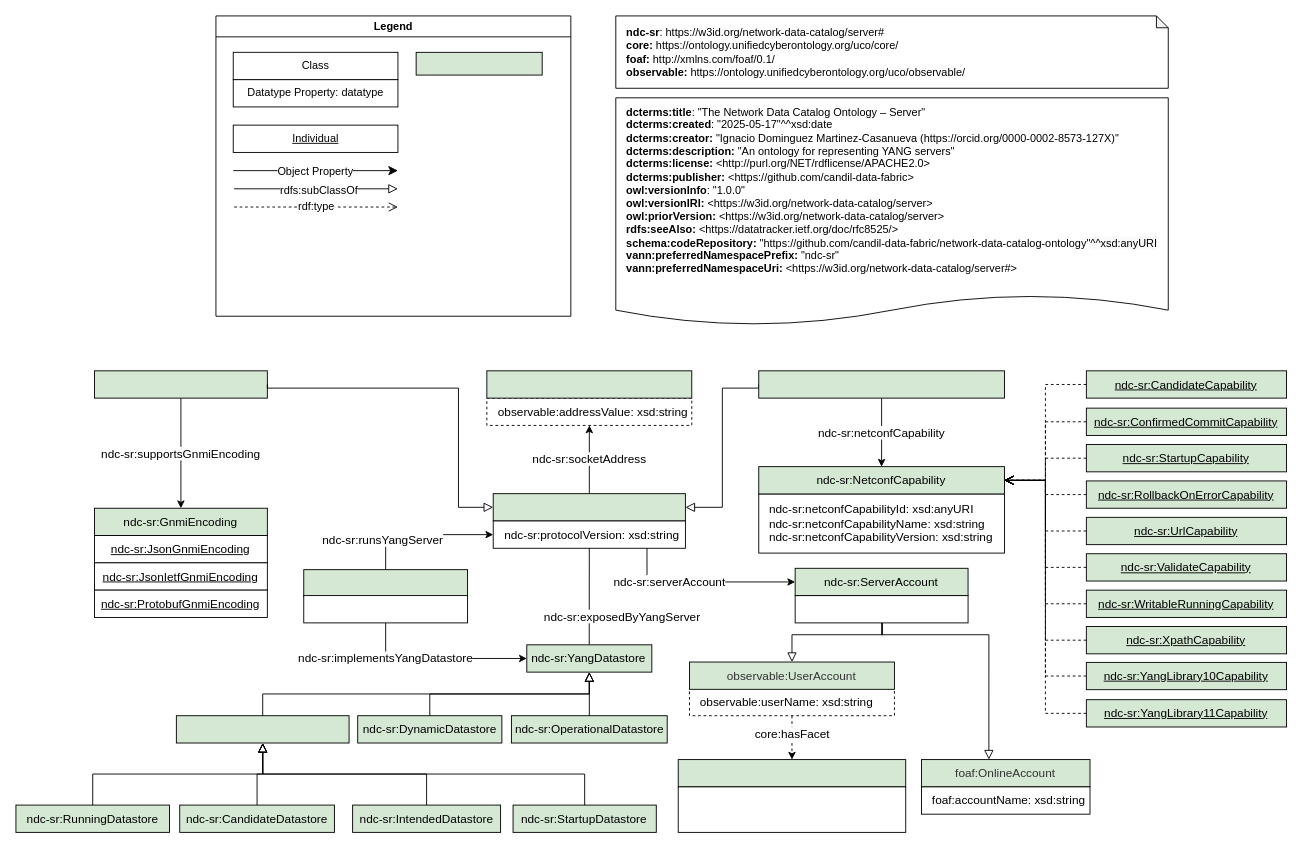
This 1303x849 diagram has some shape labels left out. Each missing label, with the centre of its shape:
"NDC Server" goes at [478,63].
"ndc-sr:ConventionalDatastore" goes at [262,729].
"ndc-sr:deviceId: xsd:string" goes at [385,609].
"ndc-sr:GnmiServer" goes at [180,384].
"ndc-sr:NetconfServer" goes at [881,384].
"ndc-sr:NetworkDevice" goes at [385,583].
"ndc-sr:username: xsd:string" goes at [881,609].
"ndc-sr:YangServer" goes at [588,507].
"observable:AccountAuthenticationFacet" goes at [791,773].
"observable:password: xsd:string observable:passwordType: xsd:string" goes at [791,809].
"observable:SocketAddress" goes at [589,384].
